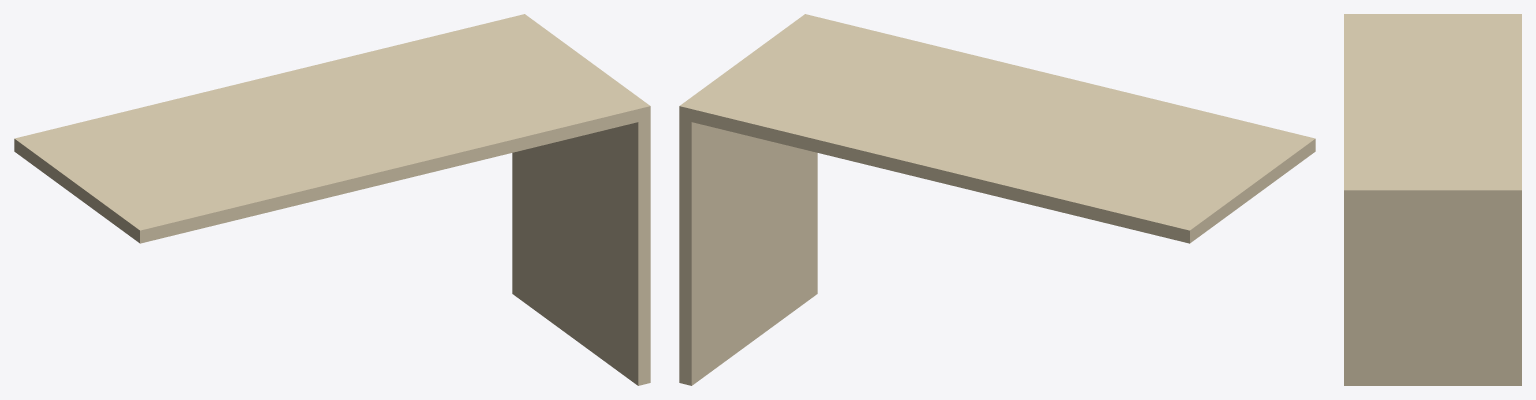
3 renders of one model, left to right at view 1: azimuth 30°, elevation 25°; view 2: azimuth 150°, elevation 25°; view 3: azimuth 270°, elevation 25°, orthographic. The views are drawn at different scales.
Visible parts, largest first — view 1: Top, EndPanel; view 2: Top, EndPanel; view 3: EndPanel, Top.
Part boxes in pixels (<box>): Top: <box>14,14,650,243</box>; EndPanel: <box>512,119,650,385</box>; Top: <box>679,14,1315,243</box>; EndPanel: <box>679,119,817,385</box>; EndPanel: <box>1344,199,1521,385</box>; Top: <box>1344,14,1521,199</box>.
Bounding box in the file's own units: 1.64 × 0.85 × 0.7.
